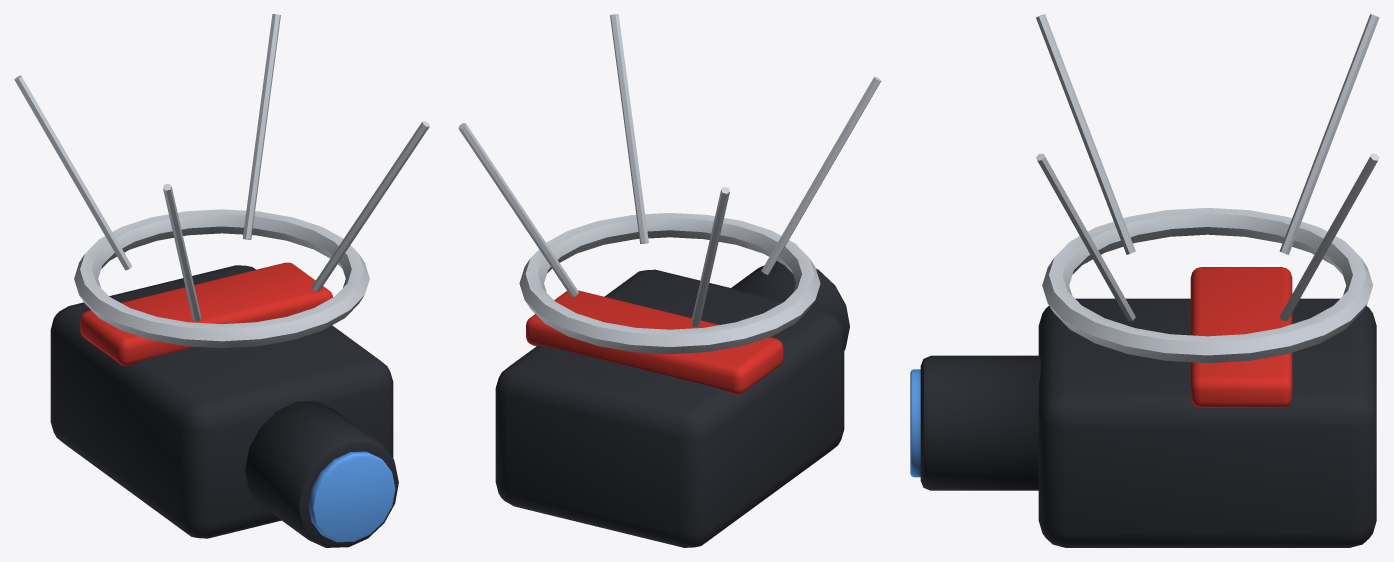
The model's file is st_cam.glb.
The picture shows the model from 3 angles, left to right: view 1: azimuth 30°, elevation 25°; view 2: azimuth 150°, elevation 25°; view 3: azimuth 270°, elevation 25°; orthographic projection. The views are drawn at different scales.
Parts seen in each view (by area): view 1: st_cam; view 2: st_cam; view 3: st_cam.
Boxes of the visible parts, <box> form: st_cam: <box>14,14,429,547</box>; st_cam: <box>458,14,881,547</box>; st_cam: <box>910,14,1379,547</box>.
Size of the model in its own units: 1.02 by 1.36 by 1.39.
